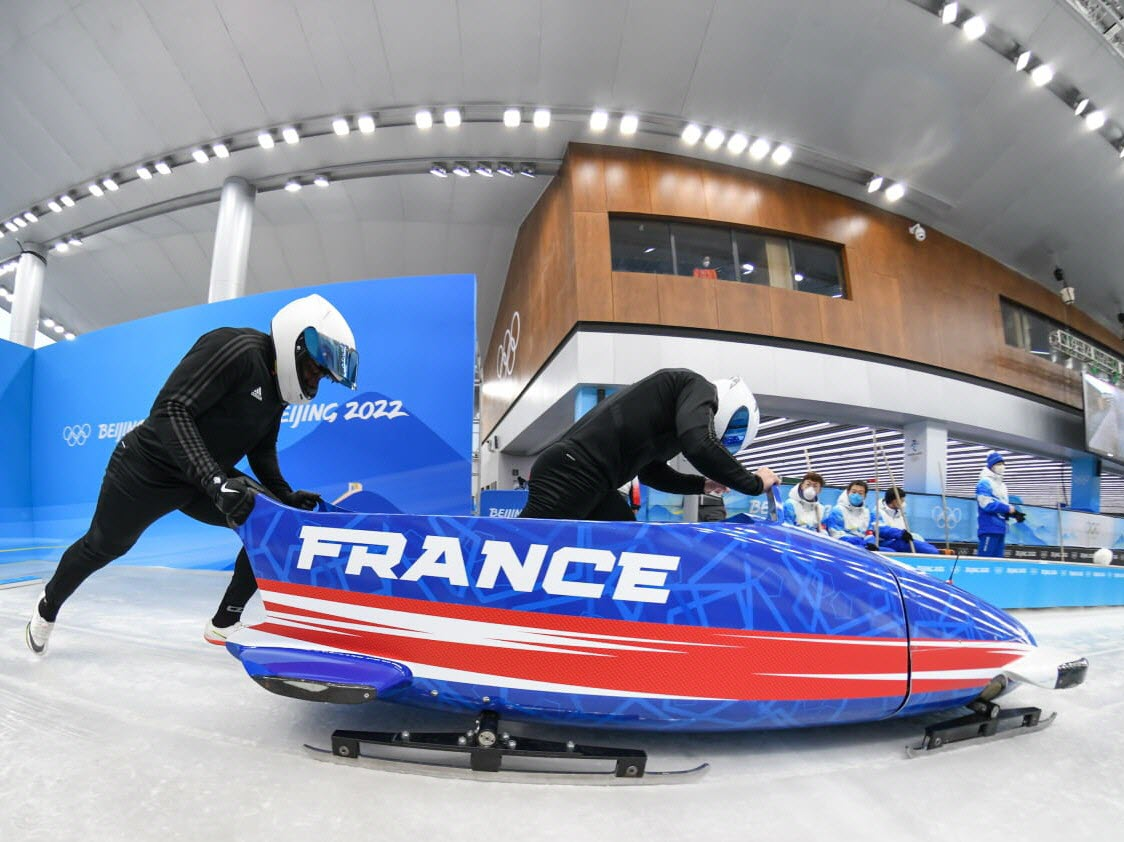Bobsleigh: (235, 483, 1093, 770)
